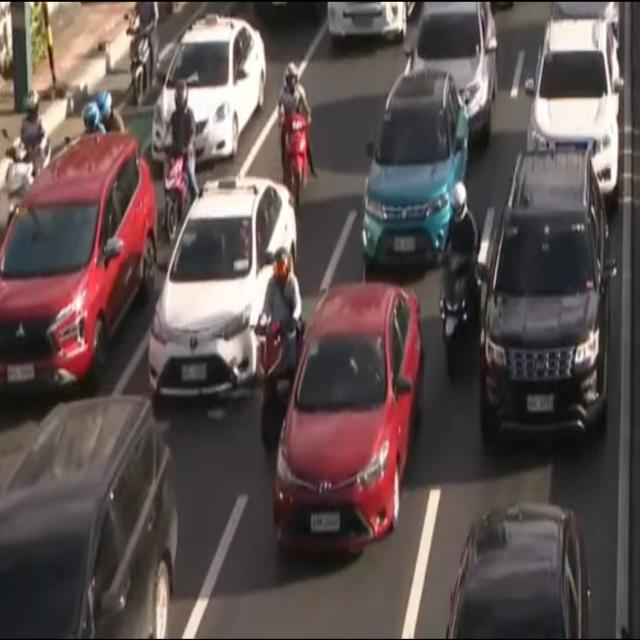Motorcycle: (255, 250, 300, 450), (438, 180, 484, 364), (2, 84, 52, 230), (273, 62, 314, 196), (161, 80, 195, 233), (127, 0, 156, 107), (78, 89, 128, 138)
SUV: (0, 394, 176, 640), (0, 139, 153, 391), (482, 154, 608, 428), (362, 77, 465, 267), (526, 24, 622, 203), (406, 3, 497, 150)
Sedan: (272, 287, 424, 557), (152, 178, 298, 388), (444, 508, 591, 640), (150, 21, 265, 167)
